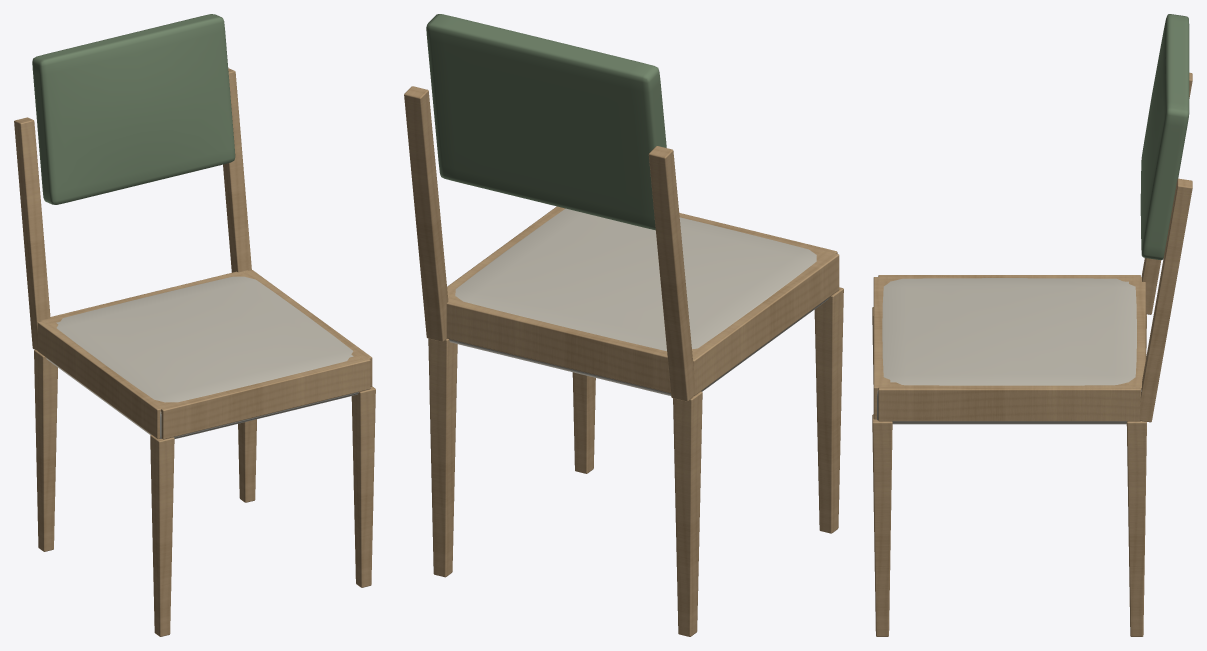
The model's file is guest_chair.gltf.
3 views of the same model, side by side, from view 1: azimuth 30°, elevation 25°; view 2: azimuth 150°, elevation 25°; view 3: azimuth 270°, elevation 25° (orthographic). The views are drawn at different scales.
Parts seen in each view (by area): view 1: GuestChair_DetailPiping_Oak_Light, GuestChair_BackPanel, GuestChair_Seat; view 2: GuestChair_DetailPiping_Oak_Light, GuestChair_BackPanel, GuestChair_Seat; view 3: GuestChair_Seat, GuestChair_DetailPiping_Oak_Light, GuestChair_BackPanel.
Part boxes in pixels (<box>): GuestChair_DetailPiping_Oak_Light: <box>14,68,375,636</box>; GuestChair_BackPanel: <box>32,14,235,204</box>; GuestChair_Seat: <box>46,276,358,438</box>; GuestChair_DetailPiping_Oak_Light: <box>404,86,843,636</box>; GuestChair_BackPanel: <box>426,14,666,230</box>; GuestChair_Seat: <box>449,208,829,395</box>; GuestChair_Seat: <box>877,278,1141,424</box>; GuestChair_DetailPiping_Oak_Light: <box>872,72,1192,636</box>; GuestChair_BackPanel: <box>1140,14,1189,259</box>.
Bounding box in the file's own units: 0.4599 × 0.9604 × 0.5364.
3 materials, 1 textured.
